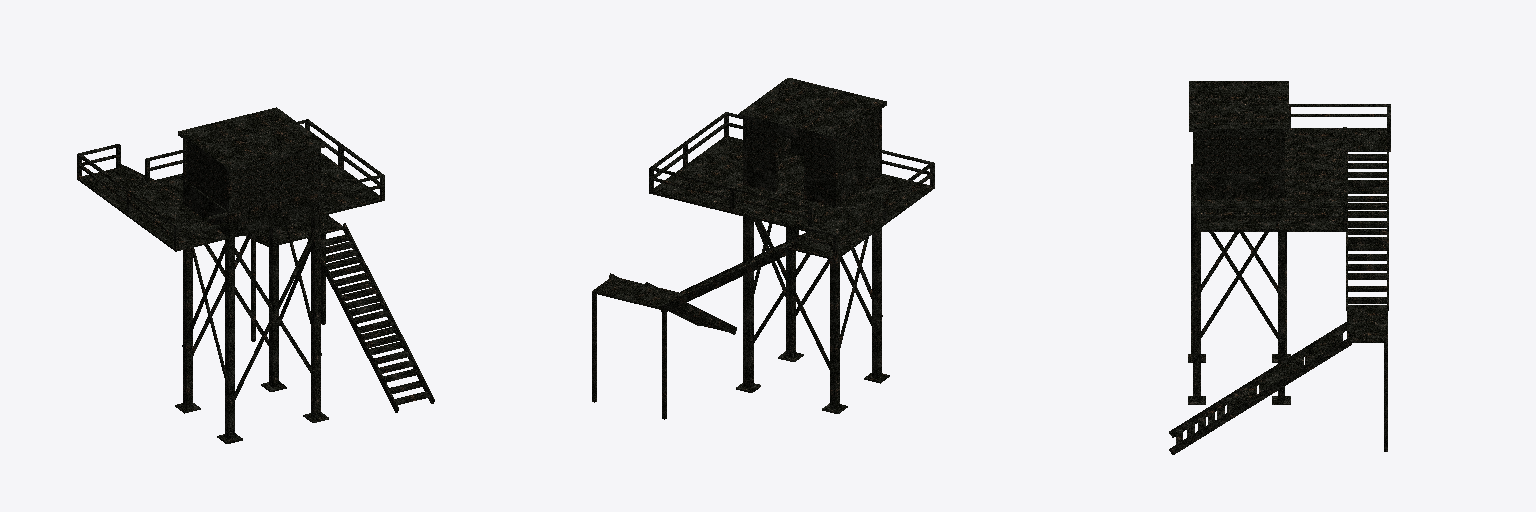
3 renders of one model, left to right at view 1: azimuth 30°, elevation 25°; view 2: azimuth 150°, elevation 25°; view 3: azimuth 270°, elevation 25°, orthographic.
Visible parts, largest first — view 1: Watch_Tower_+stairs; view 2: Watch_Tower_+stairs; view 3: Watch_Tower_+stairs.
Boxes of the visible parts, <box> form: Watch_Tower_+stairs: <box>77,107,434,443</box>; Watch_Tower_+stairs: <box>592,78,934,419</box>; Watch_Tower_+stairs: <box>1169,81,1390,454</box>.
Bounding box in the file's own units: 30.45 × 32.76 × 23.71.
1 materials, 1 textured.